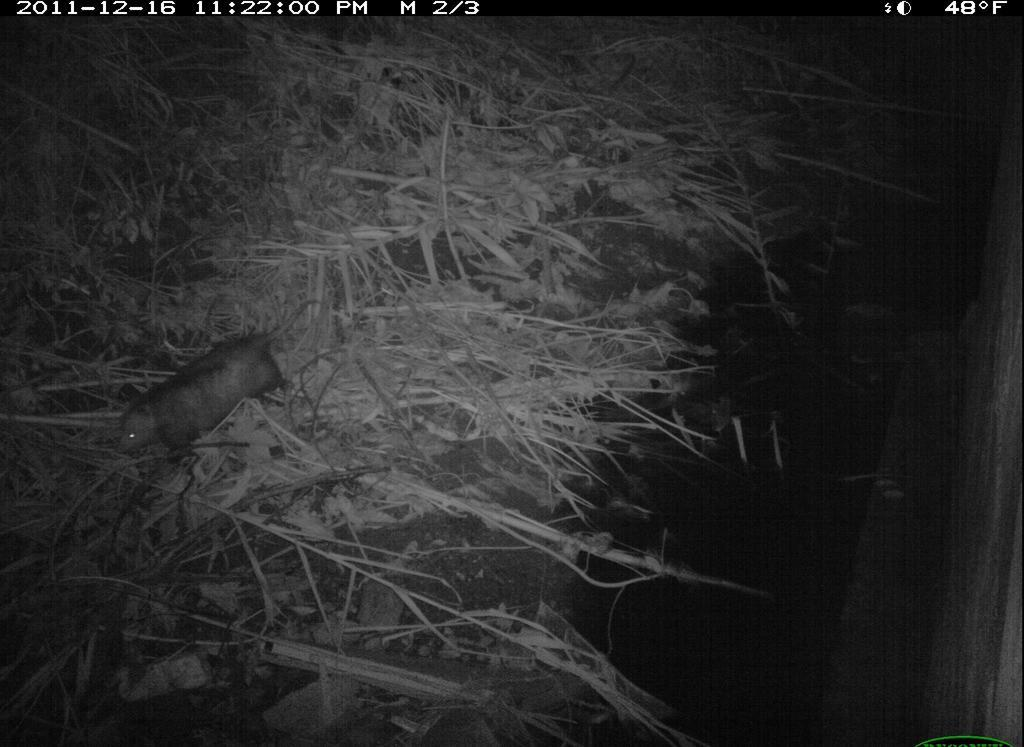opossum: (110, 300, 321, 463)
